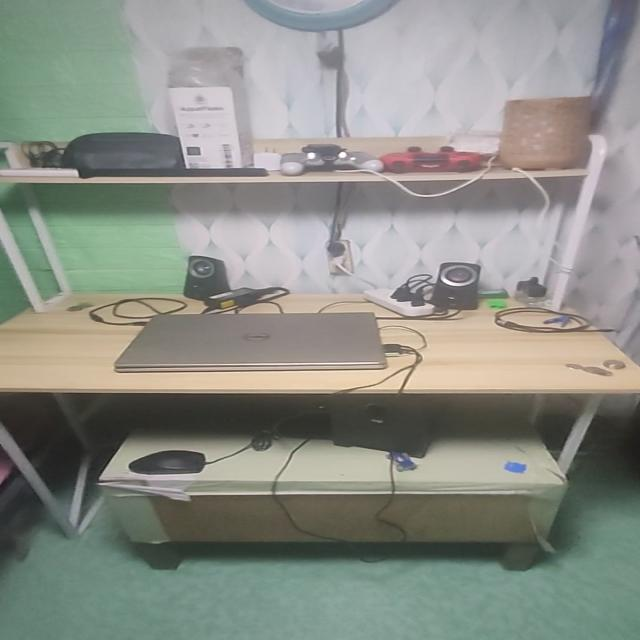table: (0, 290, 640, 581)
